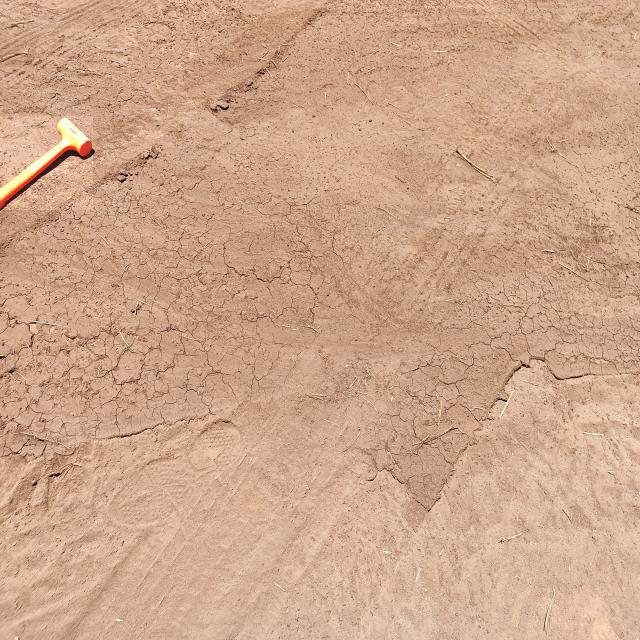Orange_hammer: (0, 116, 93, 210)
